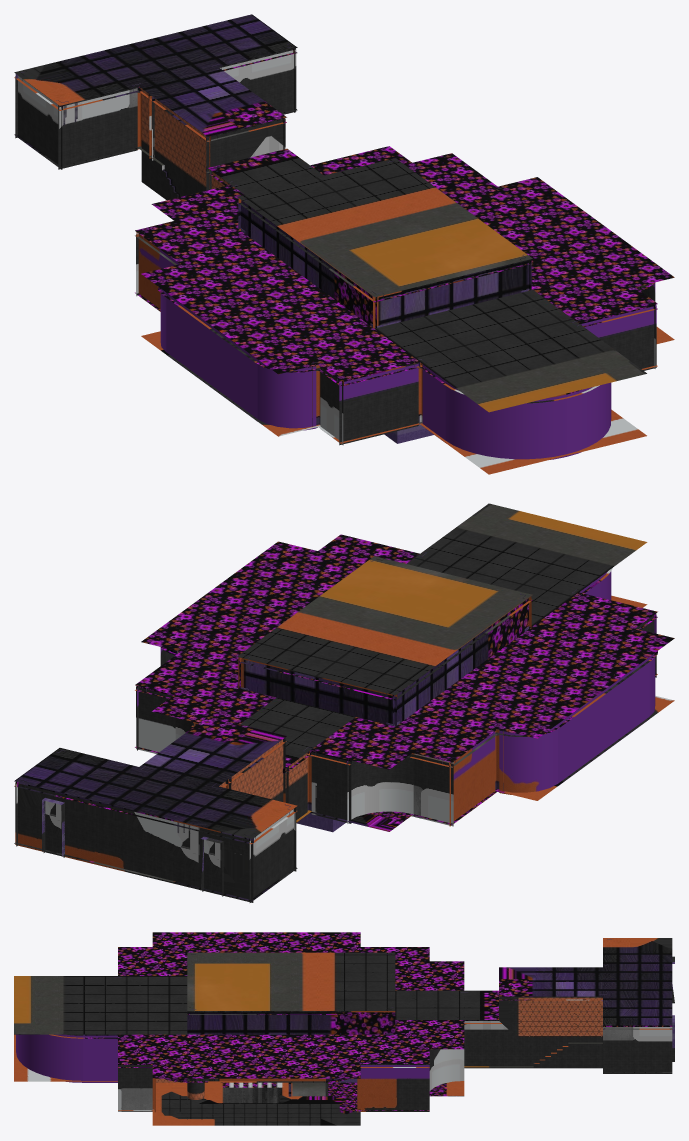
File: nightclub.obj
The picture shows the model from 3 angles, top to bottom: view 1: azimuth 30°, elevation 25°; view 2: azimuth 150°, elevation 25°; view 3: azimuth 270°, elevation 25°; orthographic projection. The views are drawn at different scales.
Visible parts, largest first — view 1: LOD0_nightclub; view 2: LOD0_nightclub; view 3: LOD0_nightclub.
Part boxes in pixels (x1,y1,x2,y2): LOD0_nightclub: (14,14,674,474); LOD0_nightclub: (14,503,674,902); LOD0_nightclub: (14,932,674,1125).
Size of the model in its own units: 100 by 31.33 by 191.
